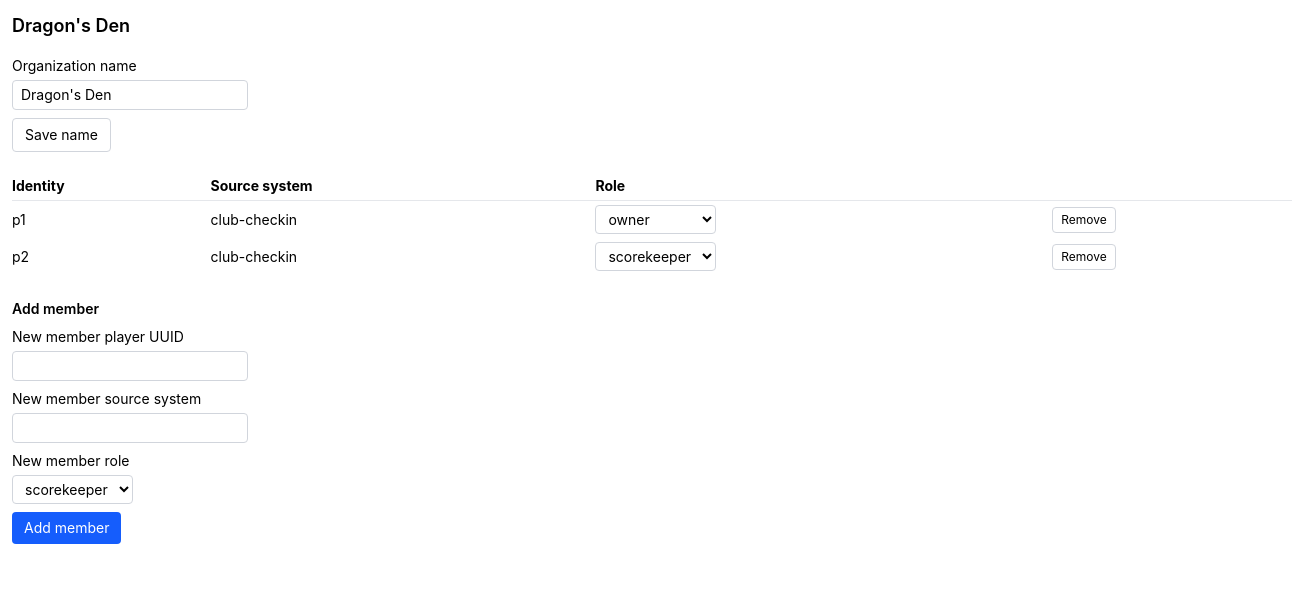
Test case: OrganizationDetail › adds a new member
expect the heading "Dragon's Den" is shown: met, box [12, 15, 130, 36]
Type "p3" into the field labelled "New member player UUID". click: (130, 366)
box: [12, 351, 248, 381]
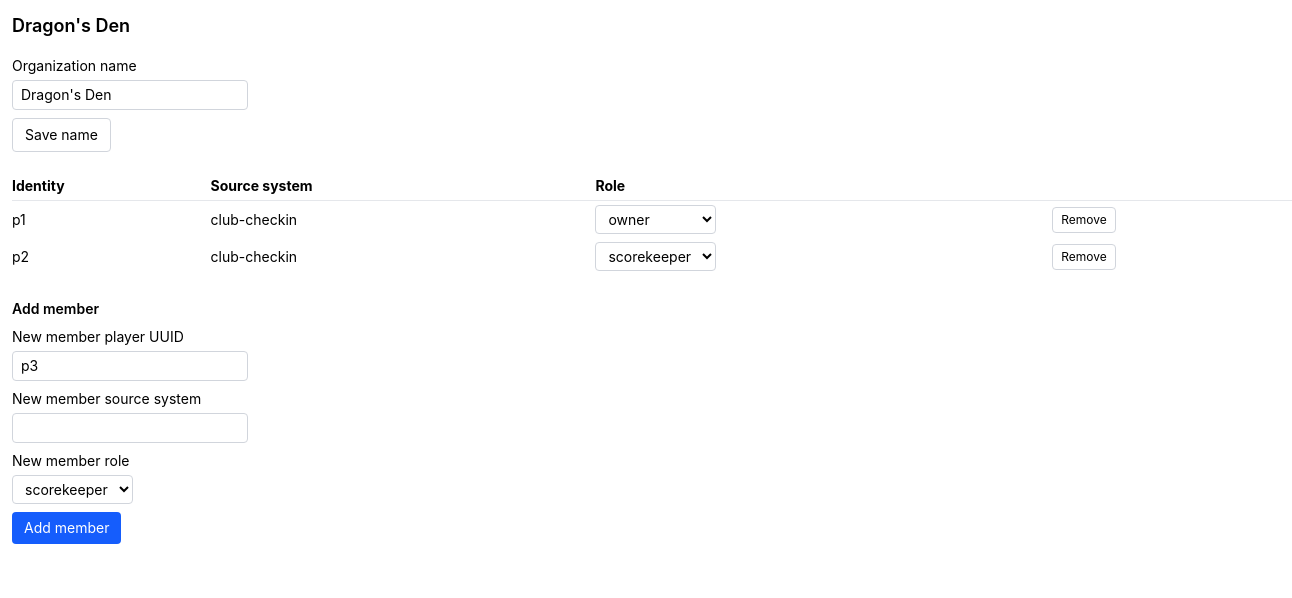
Type "club-checkin" into the field labelled "New member source system". click: (130, 428)
box: [12, 413, 248, 443]
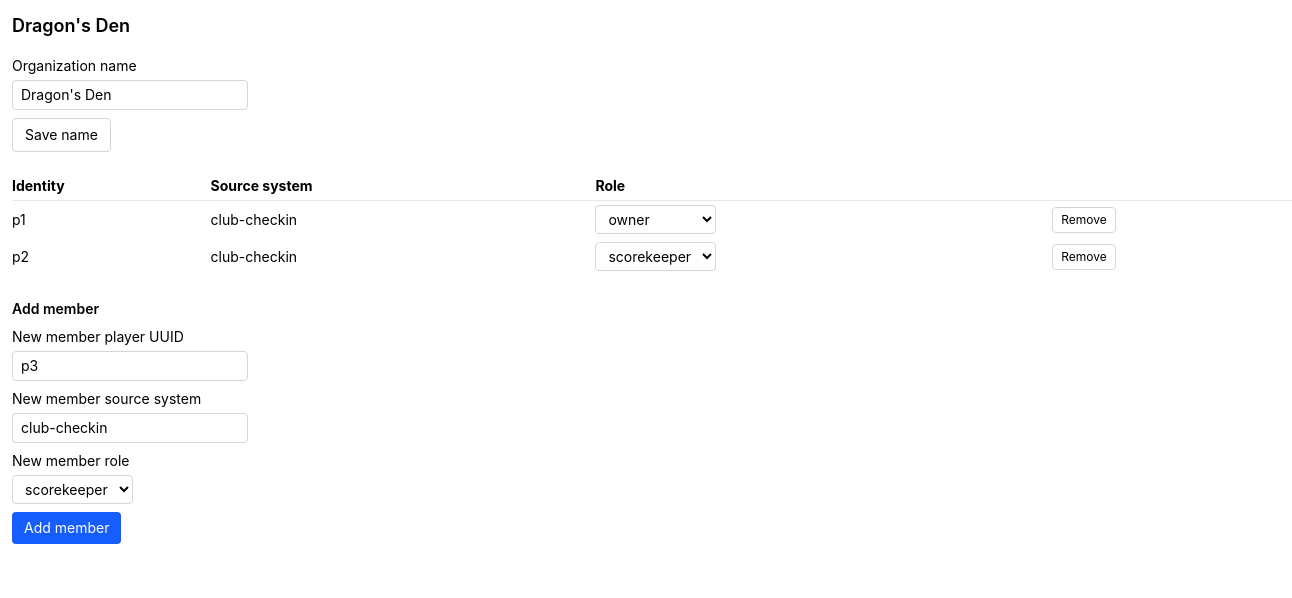
Select "judge" in the dropdown labelled "New member role". click: (72, 490)
box: [12, 475, 133, 504]
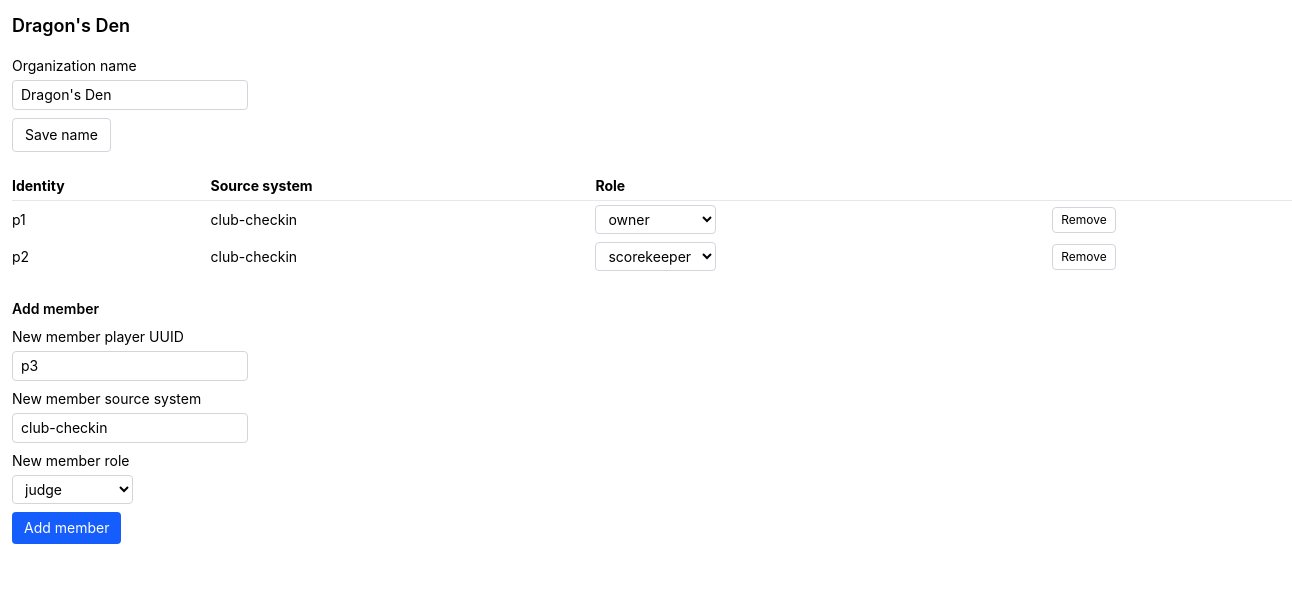
Click the button "Add member". click: click(67, 528)
box: [12, 512, 121, 544]
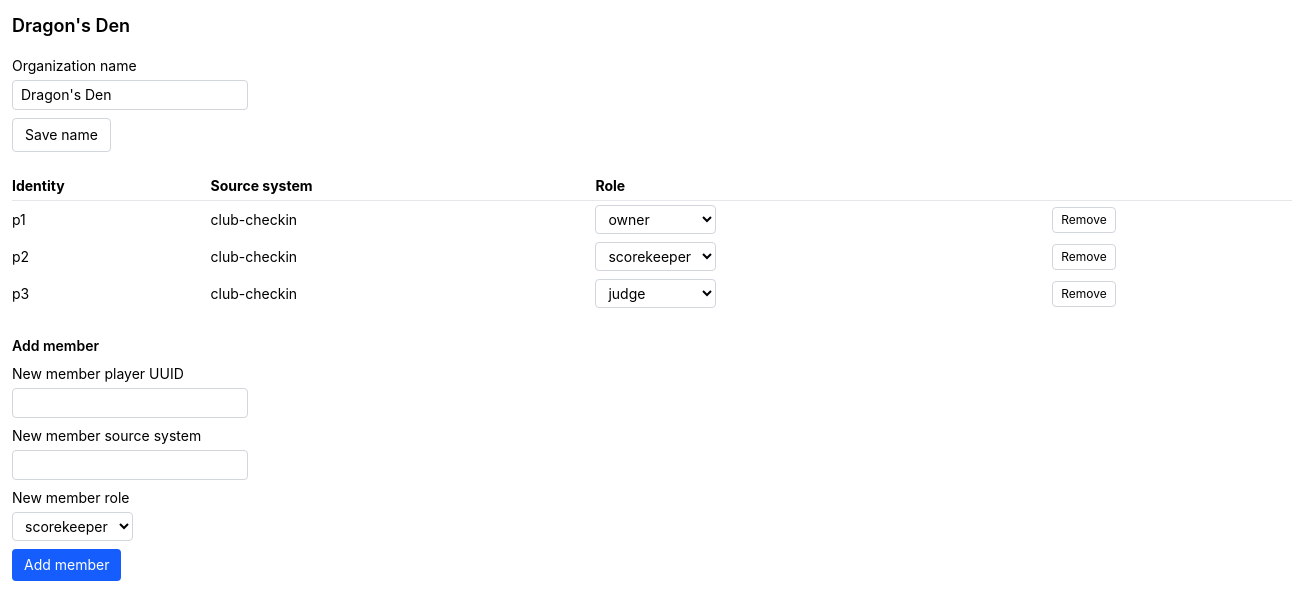
expect the text "p3" is shown: met, box [12, 275, 211, 312]
